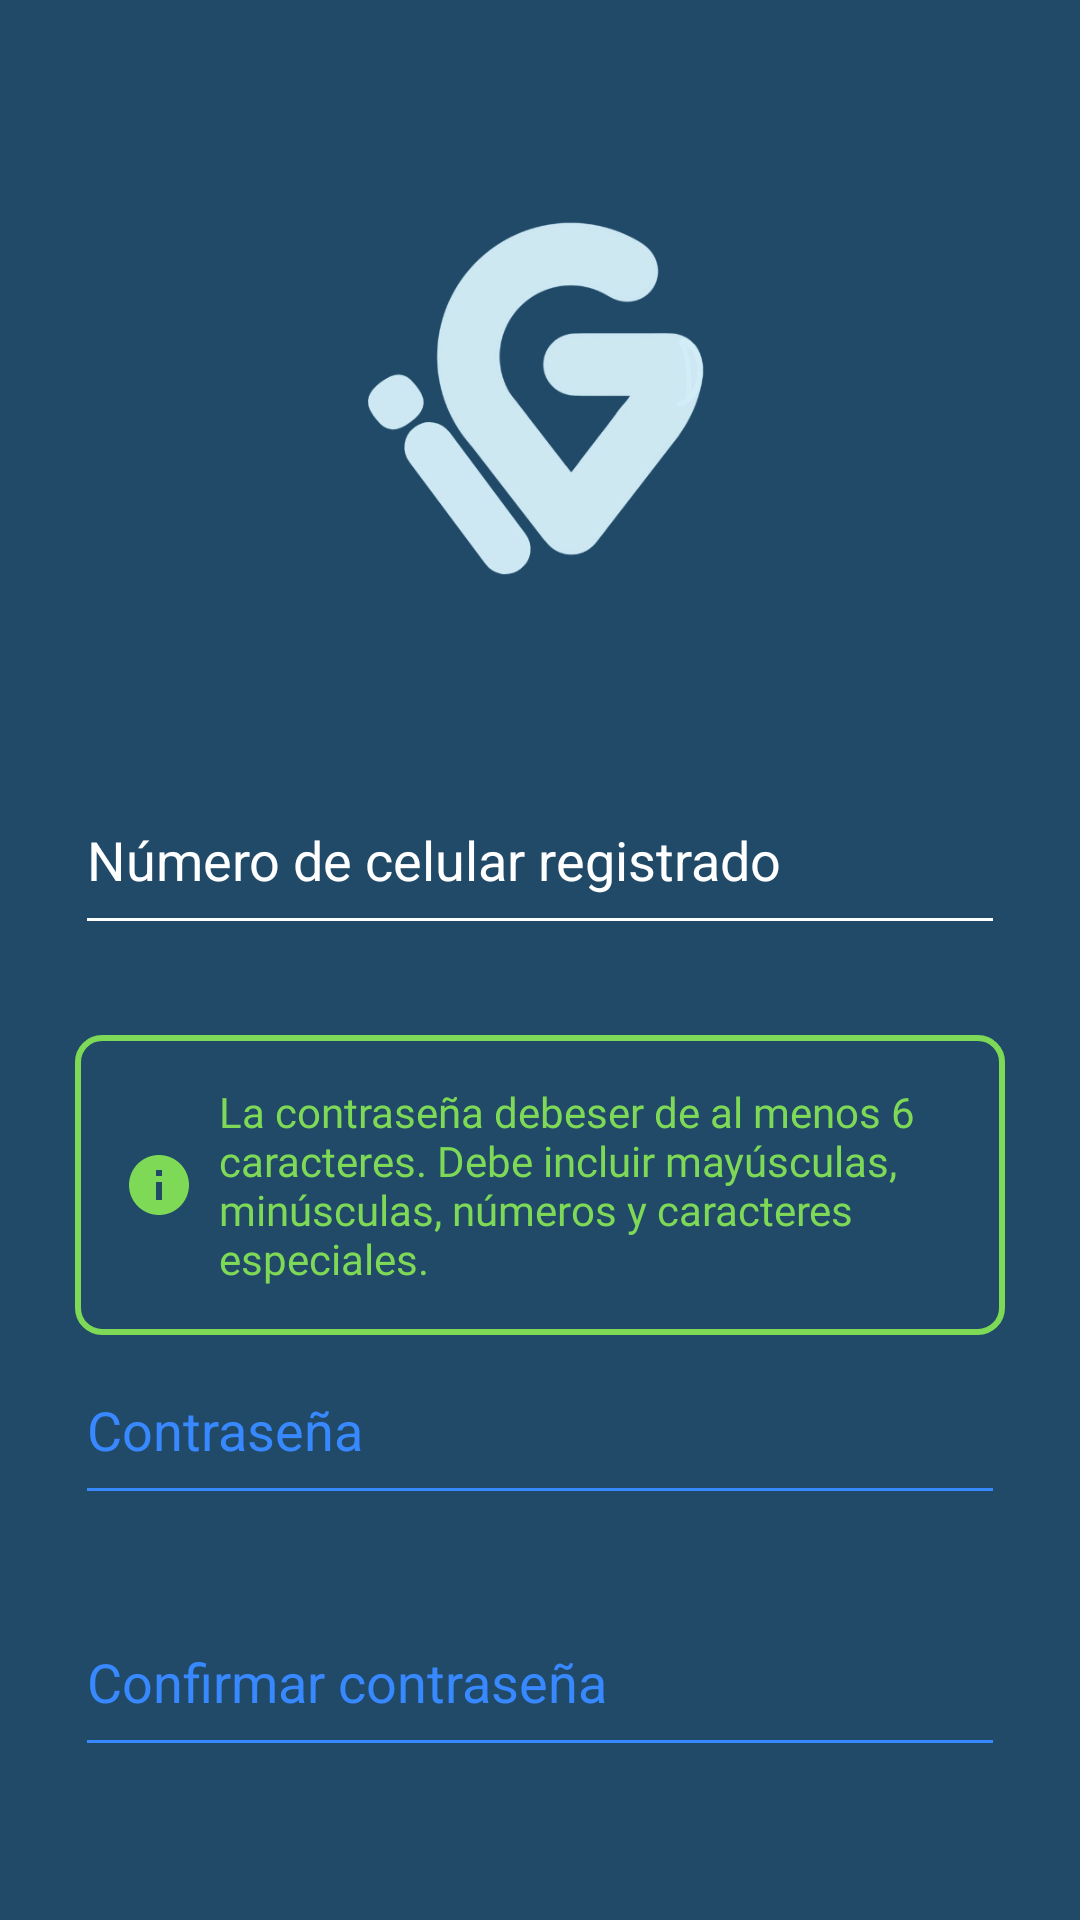

Point at icon controls on the screen. Image size 1080px×1920px, points as (x,y).
info: (159,1185)
